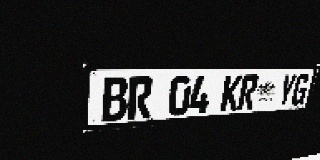0: (168, 76, 192, 116)
4: (188, 75, 212, 115)
B: (102, 77, 128, 122)
G: (290, 74, 311, 106)
K: (220, 75, 243, 112)
R: (127, 76, 153, 120), (237, 75, 259, 110)
Y: (276, 74, 297, 107)
